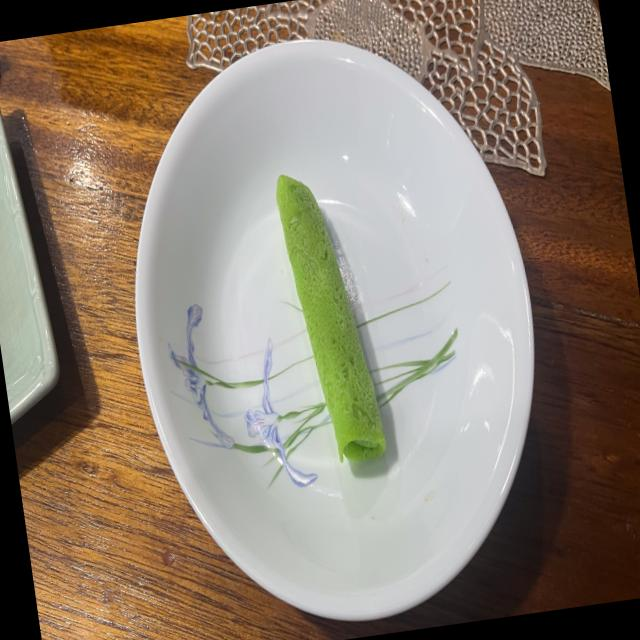Kuih-Ketayap: (276, 175, 386, 463)
